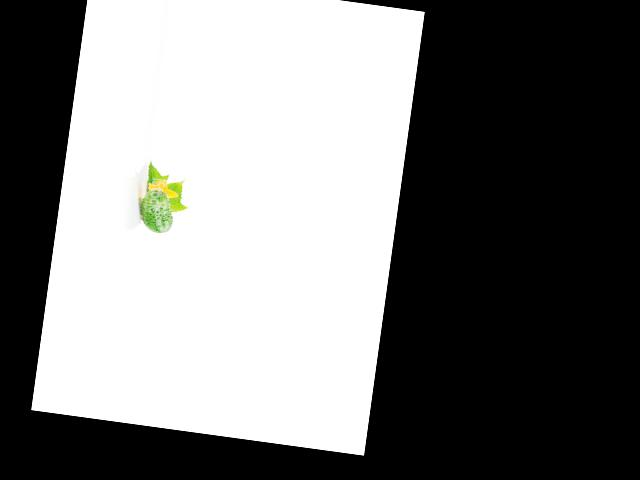cucumber: (137, 189, 176, 235)
